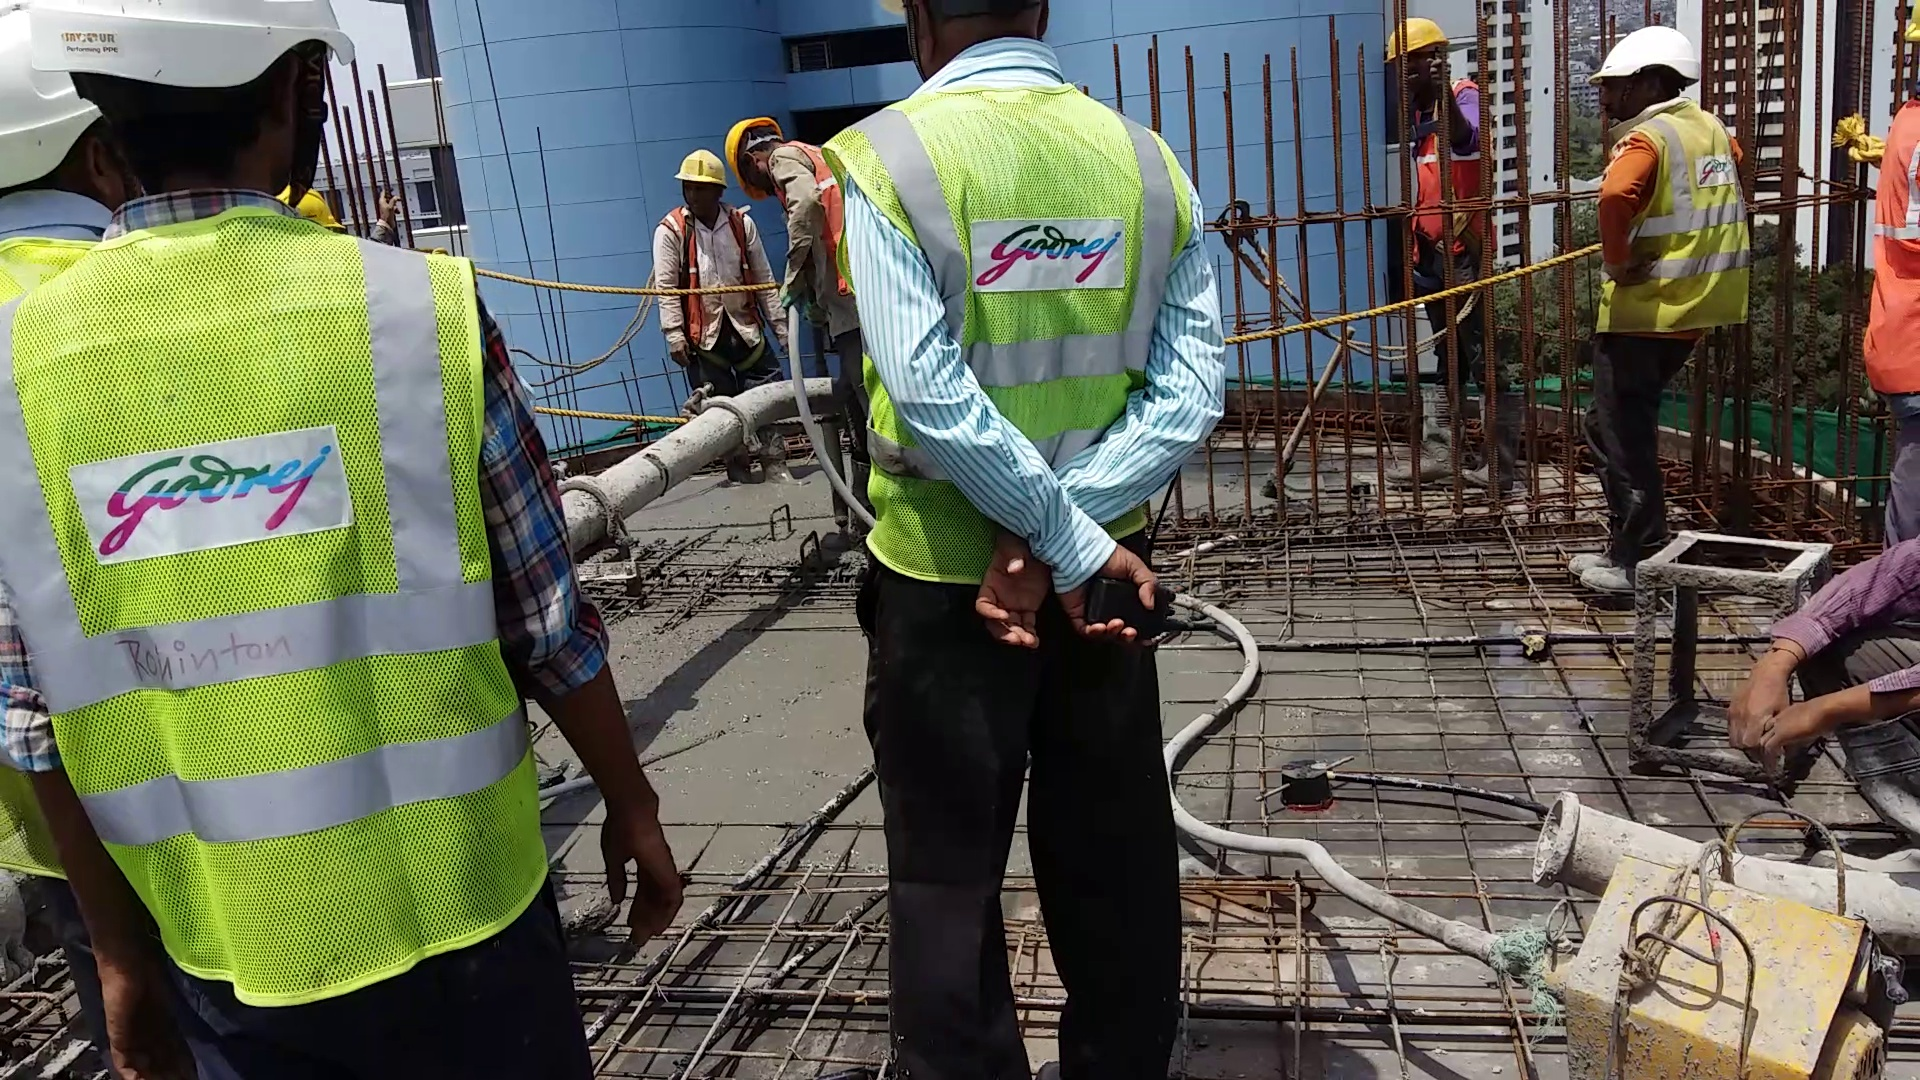NoHardhat: (816, 44, 1205, 615)
SAFE: (18, 4, 498, 932), (1575, 21, 1751, 338)
